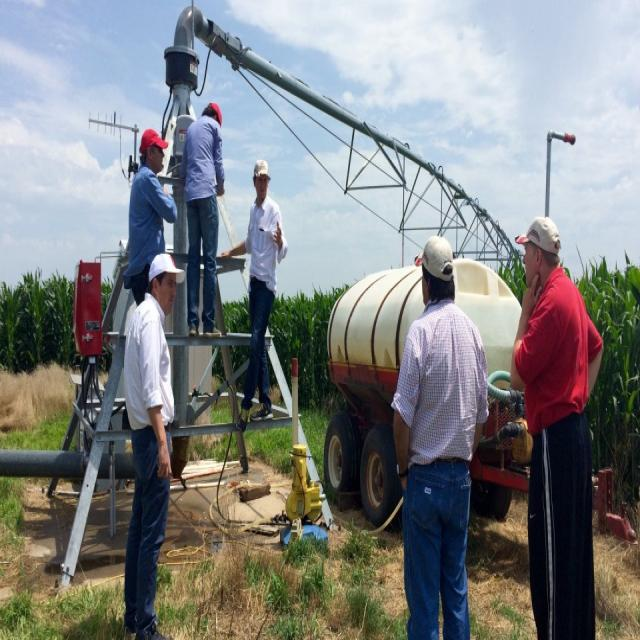body: (384, 233, 490, 639), (507, 213, 607, 639), (118, 245, 188, 639), (215, 156, 291, 438), (176, 97, 227, 343), (121, 127, 179, 308)
